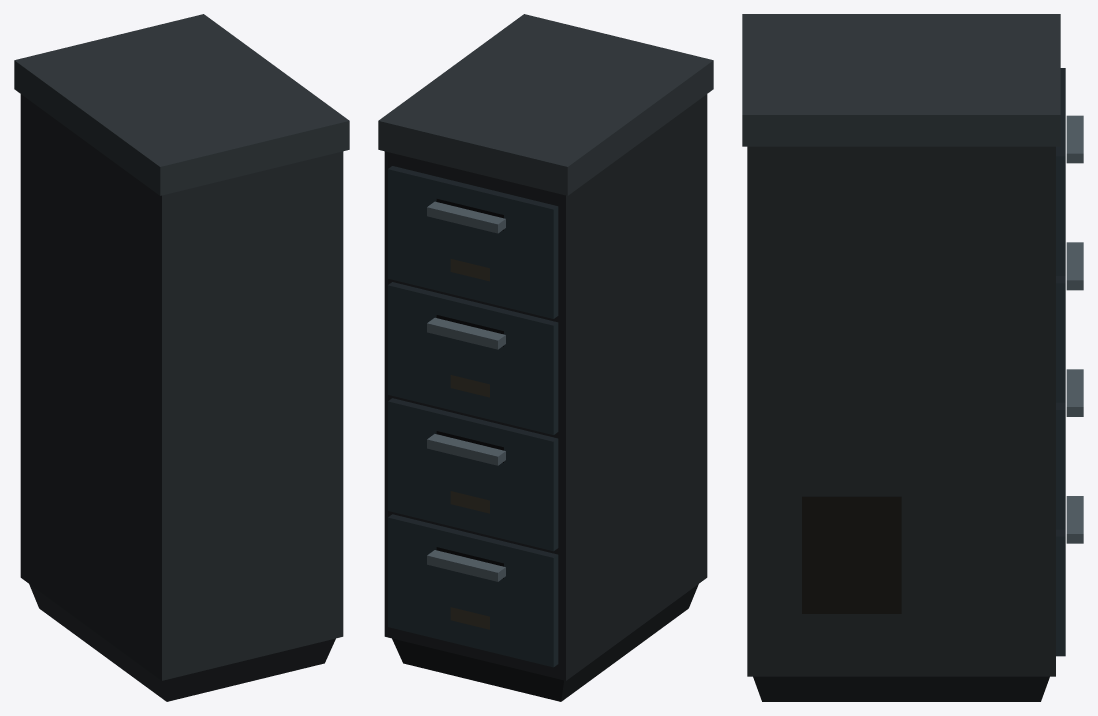
Rendered from lp_filing_cabinet.glb.
3 renders of one model, left to right at view 1: azimuth 30°, elevation 25°; view 2: azimuth 150°, elevation 25°; view 3: azimuth 270°, elevation 25°, orthographic. The views are drawn at different scales.
Visible parts, largest first — view 1: lp_filing_cabinet; view 2: lp_filing_cabinet; view 3: lp_filing_cabinet.
Part boxes in pixels (<box>): lp_filing_cabinet: <box>14,14,349,701</box>; lp_filing_cabinet: <box>378,14,713,701</box>; lp_filing_cabinet: <box>742,14,1083,701</box>.
Size of the model in its own units: 0.48 by 1.32 by 0.686.
1 material, 1 textured.
